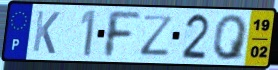1: (79, 8, 97, 59)
2: (180, 11, 212, 62)
F: (103, 9, 143, 60)
K: (31, 9, 62, 56)
Q: (212, 13, 250, 62)
Z: (139, 14, 177, 57)
